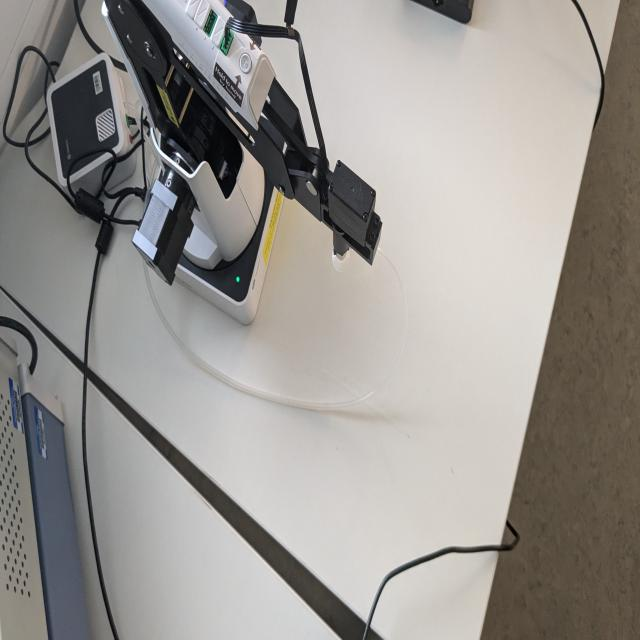Robot-end-effector-HF8z: (319, 156, 385, 274)
